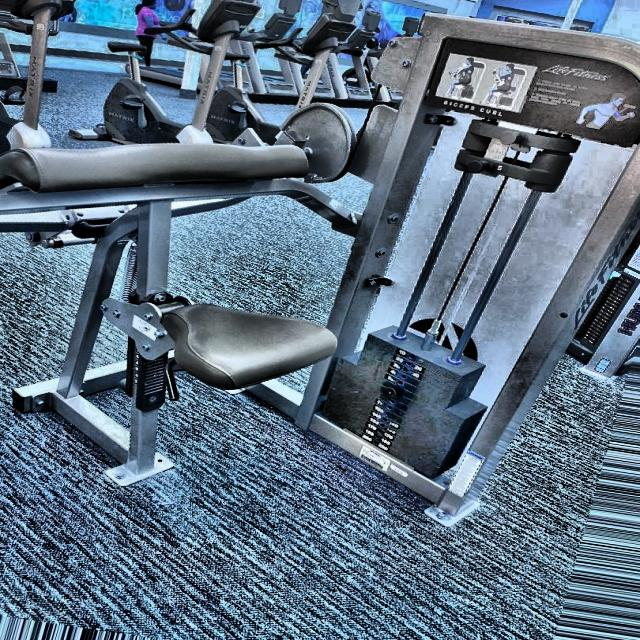bicep_curl_machine: (0, 11, 379, 485), (439, 42, 632, 151)
